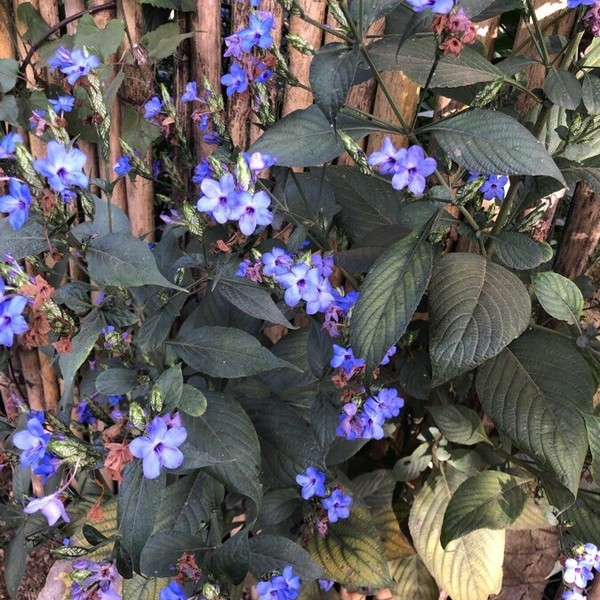obstacle: (47, 63, 490, 498)
